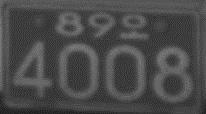0: (104, 43, 147, 103), (57, 41, 99, 101)
4: (11, 40, 52, 99)
8: (152, 44, 194, 103), (54, 9, 84, 37)
9: (87, 12, 116, 39)
오: (118, 12, 148, 40)
